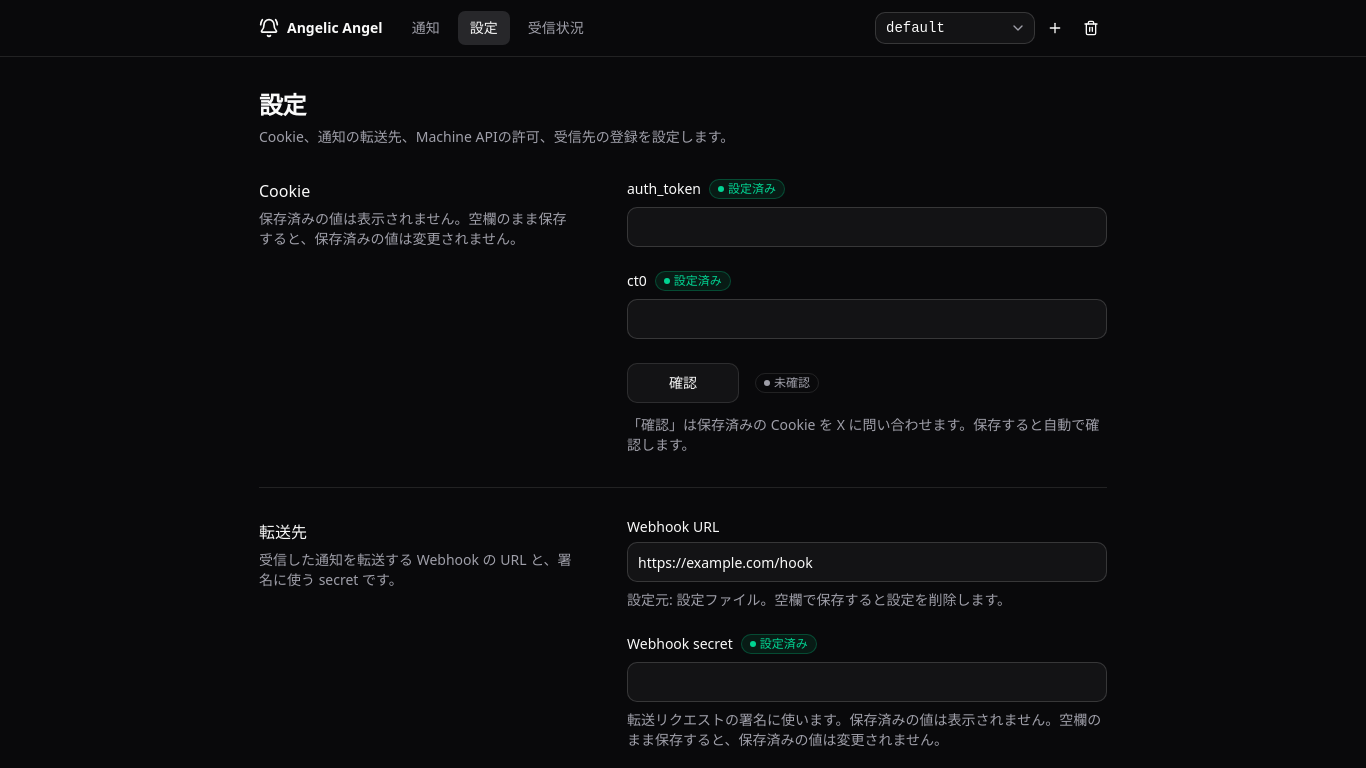
Test case: adding an account › shows other server errors with the generic error display
Expected: the heading "設定" is shown, 259,88 -> 306,121
Click the button named "アカウントを追加" at (1055, 28), box 1039,12 -> 1071,44
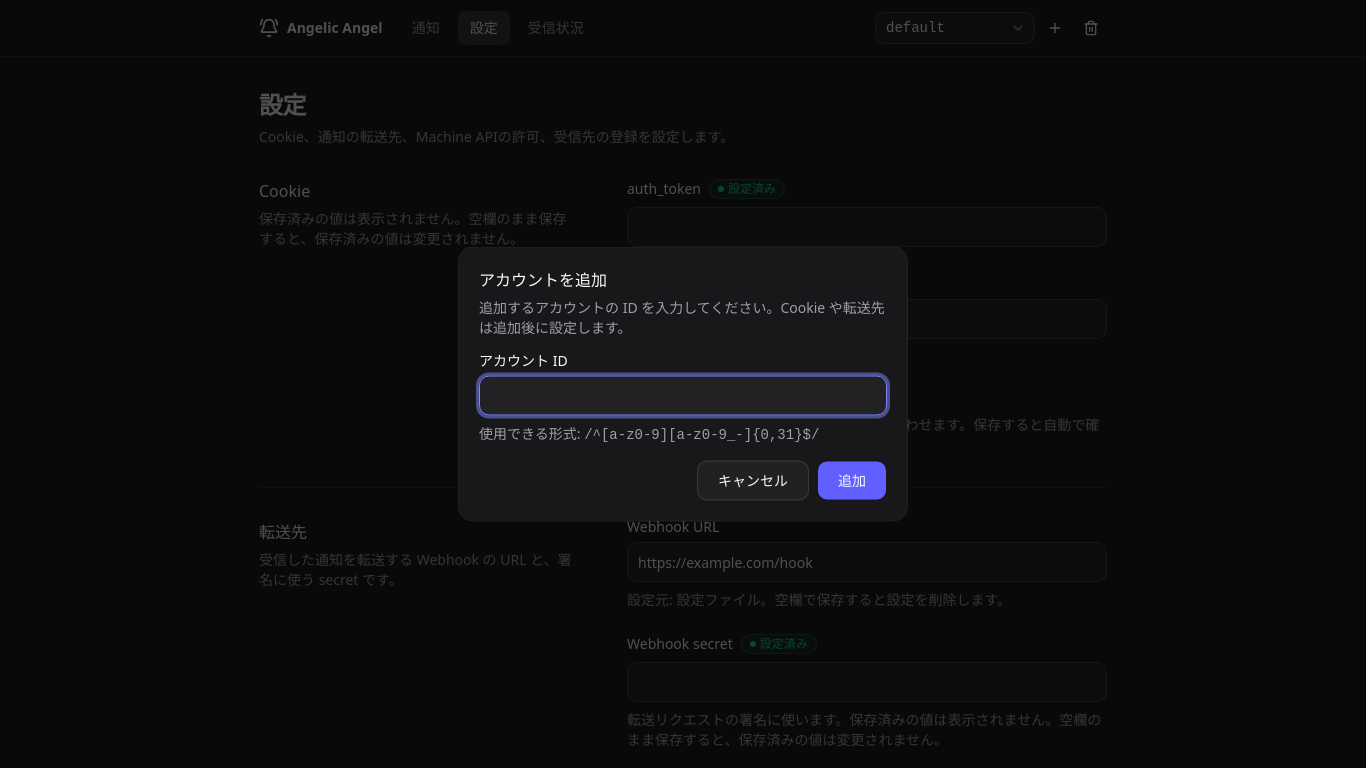
Type "ok" into the field labelled "アカウント ID" at (683, 396), box 479,376 -> 887,416
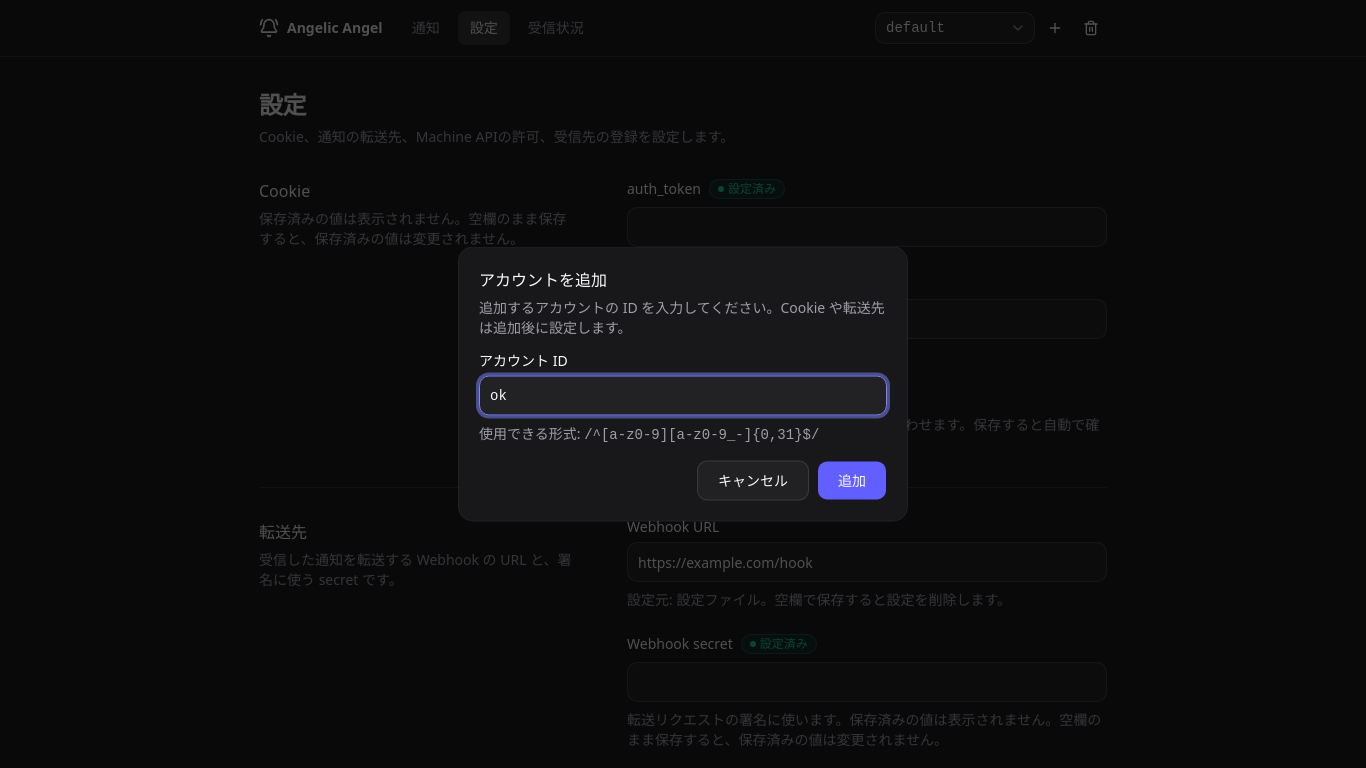
Click the button "追加" at (852, 480), box 817,460 -> 887,500
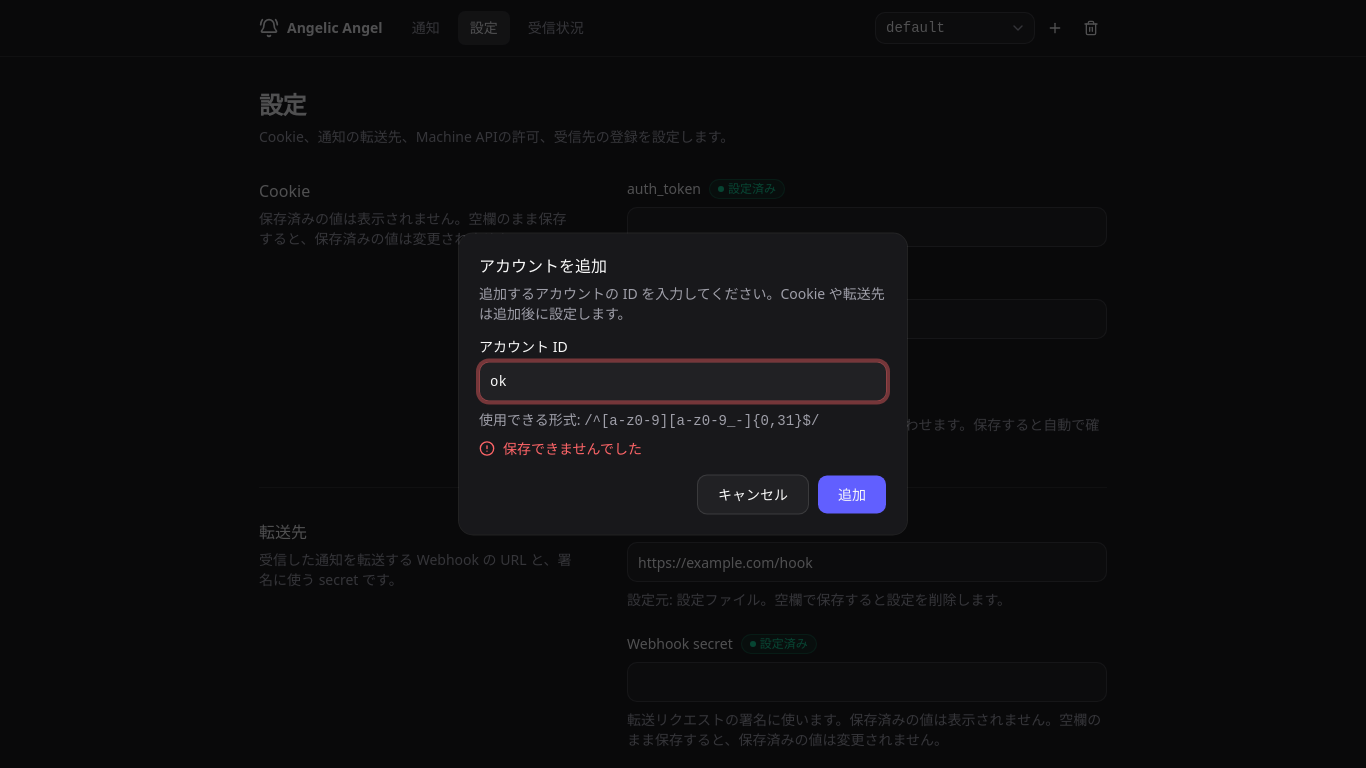
Now the message reads "保存できませんでした", box 503,438 -> 642,458
